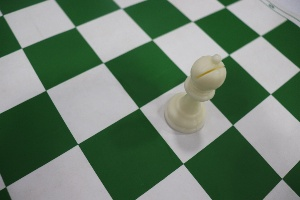white_bishop: (164, 31, 225, 137)
